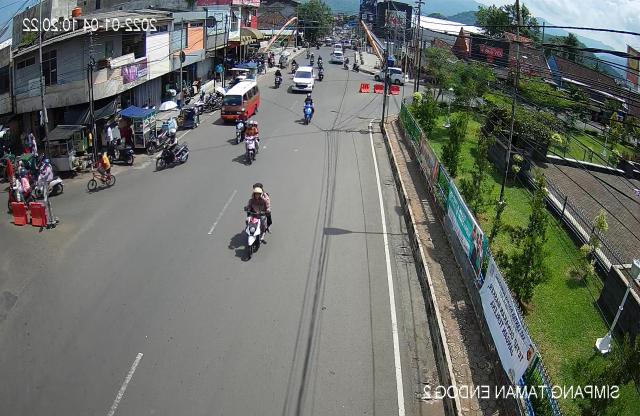Mobil: (214, 77, 261, 128)
Motor: (238, 179, 274, 266), (152, 125, 196, 174), (33, 157, 63, 202), (240, 116, 262, 168), (298, 92, 315, 129)
